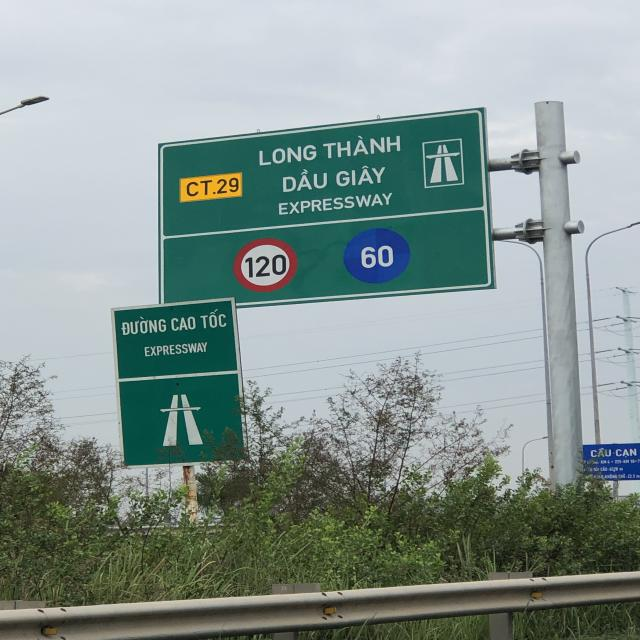Bien bao toc do toi thieu cho phep: (339, 223, 417, 287)
